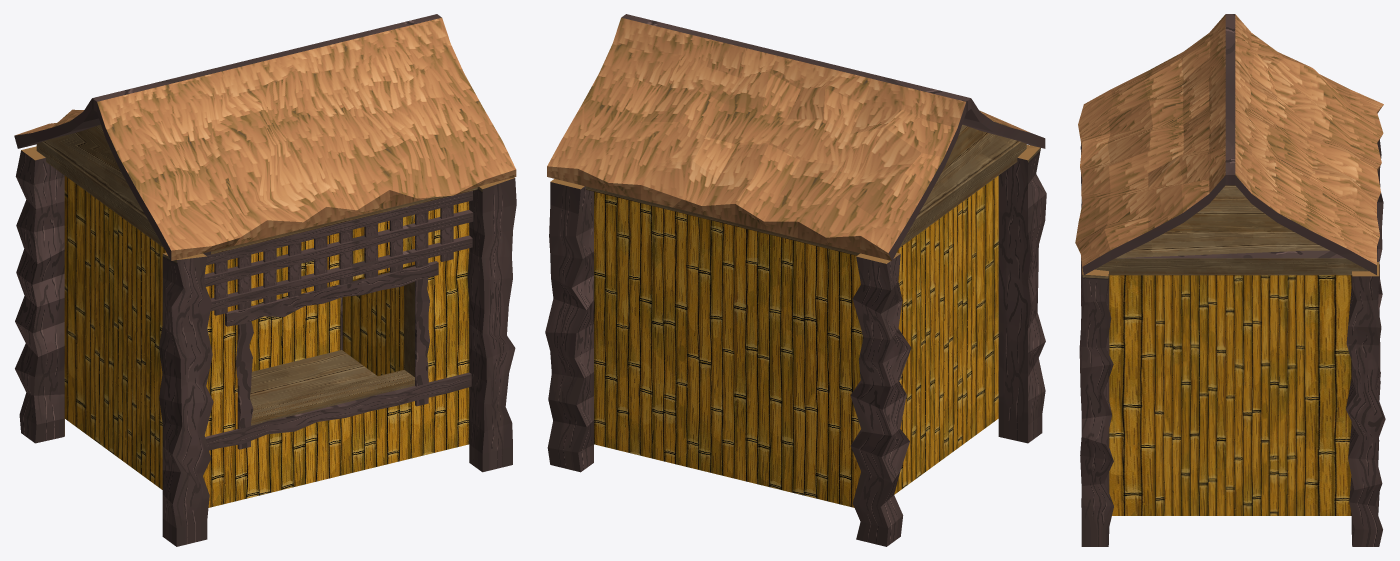
The model's file is Store2.fbx.
3 renders of one model, left to right at view 1: azimuth 30°, elevation 25°; view 2: azimuth 150°, elevation 25°; view 3: azimuth 270°, elevation 25°, orthographic. The views are drawn at different scales.
Parts seen in each view (by area): view 1: House; view 2: House; view 3: House.
Boxes of the visible parts, box(x1,y1,x2,y2) form: House: box(14, 14, 516, 546); House: box(545, 14, 1046, 546); House: box(1075, 14, 1385, 546).
Size of the model in its own units: 823 by 885 by 665.
Materials: 1 (1 with a texture image).
